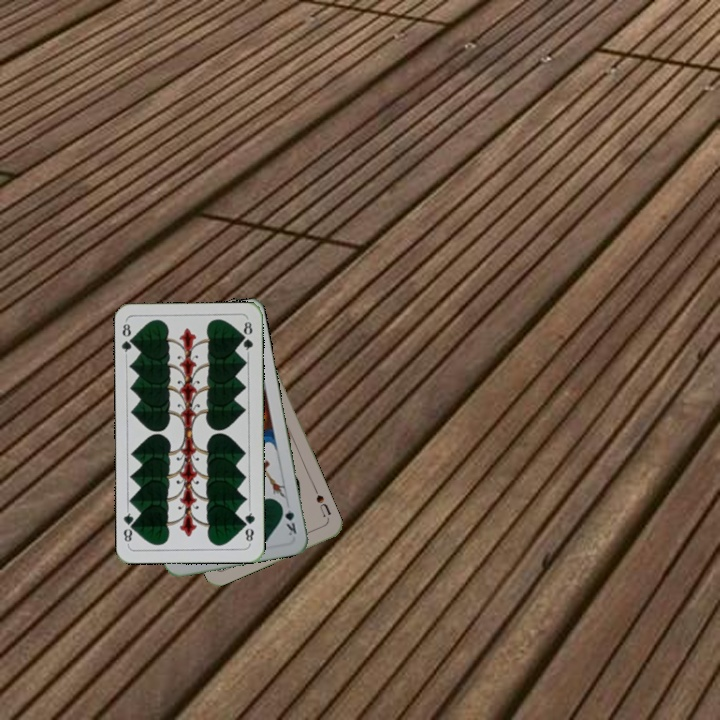G8: (118, 318, 137, 359), (240, 506, 258, 546)
GK: (277, 500, 299, 538)
SU: (310, 485, 333, 524)
